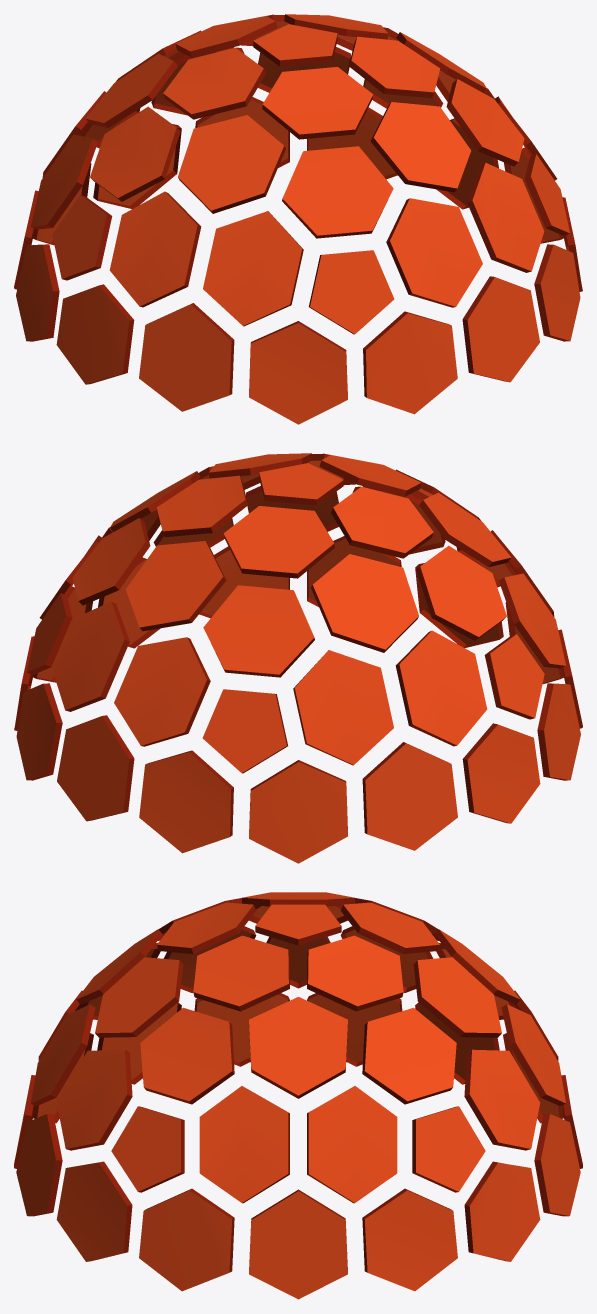
The model's file is shield.FBX.
3 views of the same model, one above another, from view 1: azimuth 30°, elevation 25°; view 2: azimuth 150°, elevation 25°; view 3: azimuth 270°, elevation 25° (orthographic).
Visible parts, largest first — view 1: GeoSphere001; view 2: GeoSphere001; view 3: GeoSphere001.
Part boxes in pixels (bbox=[...]): GeoSphere001: bbox=[14, 14, 582, 424]; GeoSphere001: bbox=[14, 453, 582, 863]; GeoSphere001: bbox=[14, 892, 582, 1299].
Size of the model in its own units: 2.78 by 1.41 by 2.78.
